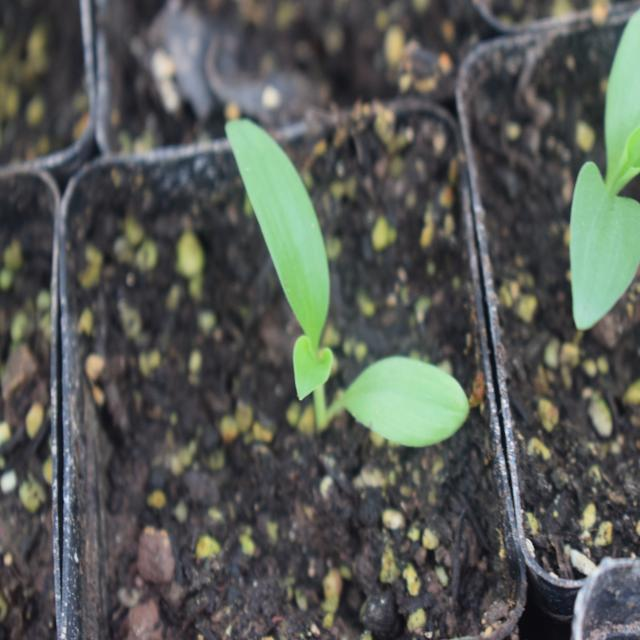Common Dayflower: (246, 118, 468, 458)
